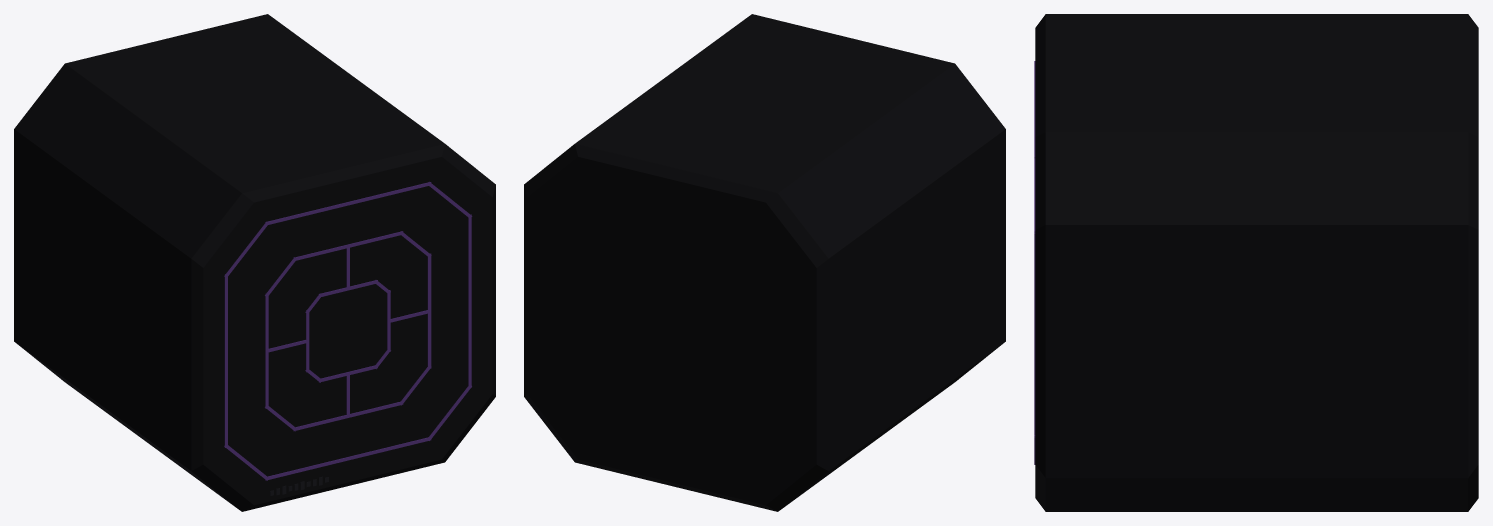
Rendered from z05_field.obj.
3 views of the same model, side by side, from view 1: azimuth 30°, elevation 25°; view 2: azimuth 150°, elevation 25°; view 3: azimuth 270°, elevation 25° (orthographic). The views are drawn at different scales.
Visible parts, largest first — view 1: z05_field; view 2: z05_field; view 3: z05_field.
Boxes of the visible parts, x1=… form: z05_field: x1=14, y1=14, x2=495, y2=511; z05_field: x1=524, y1=14, x2=1005, y2=511; z05_field: x1=1034, y1=14, x2=1478, y2=511.
Size of the model in its own units: 1.2 by 1.2 by 1.27.
